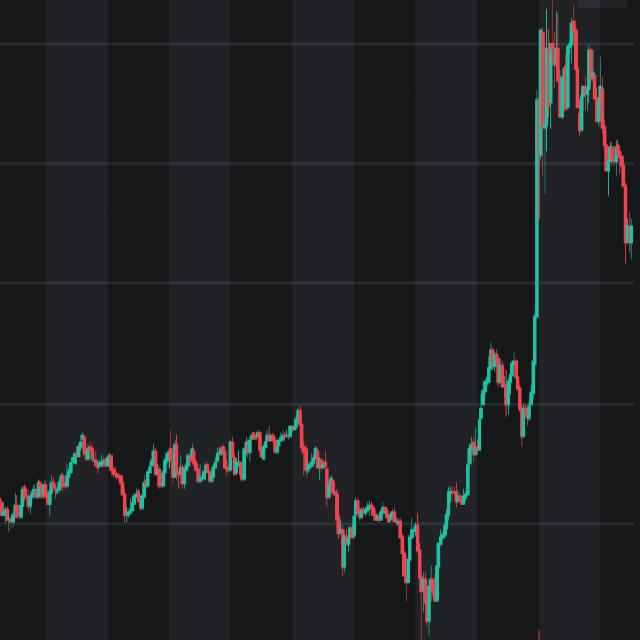Resistance-breakout: (478, 16, 568, 447)
